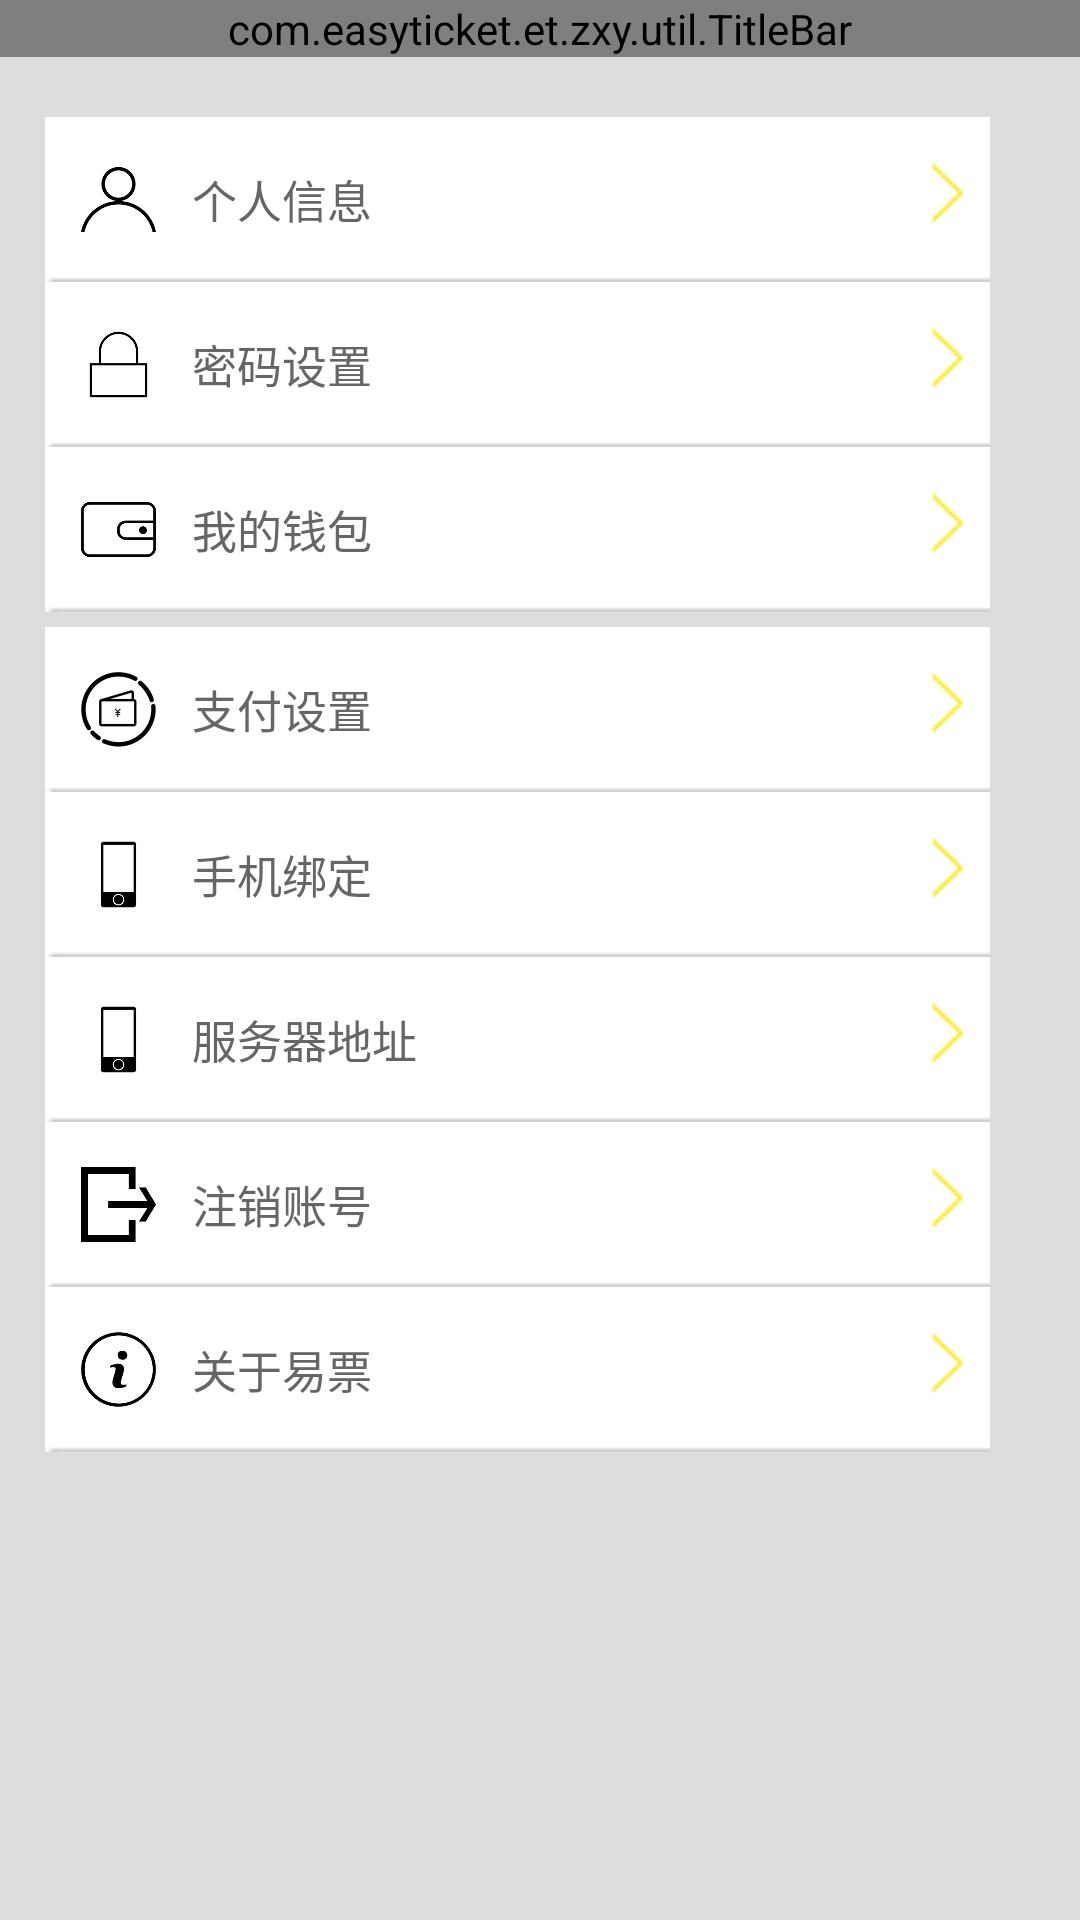

Icon bounding boxes for this 1080 x 1920 phone screenshot, format (x1, y1, x2, y2):
about: (81, 1332, 156, 1407)
pay: (81, 672, 156, 747)
person: (81, 167, 156, 232)
phone: (101, 841, 136, 908), (101, 1006, 136, 1073)
wallet: (81, 502, 156, 557)
